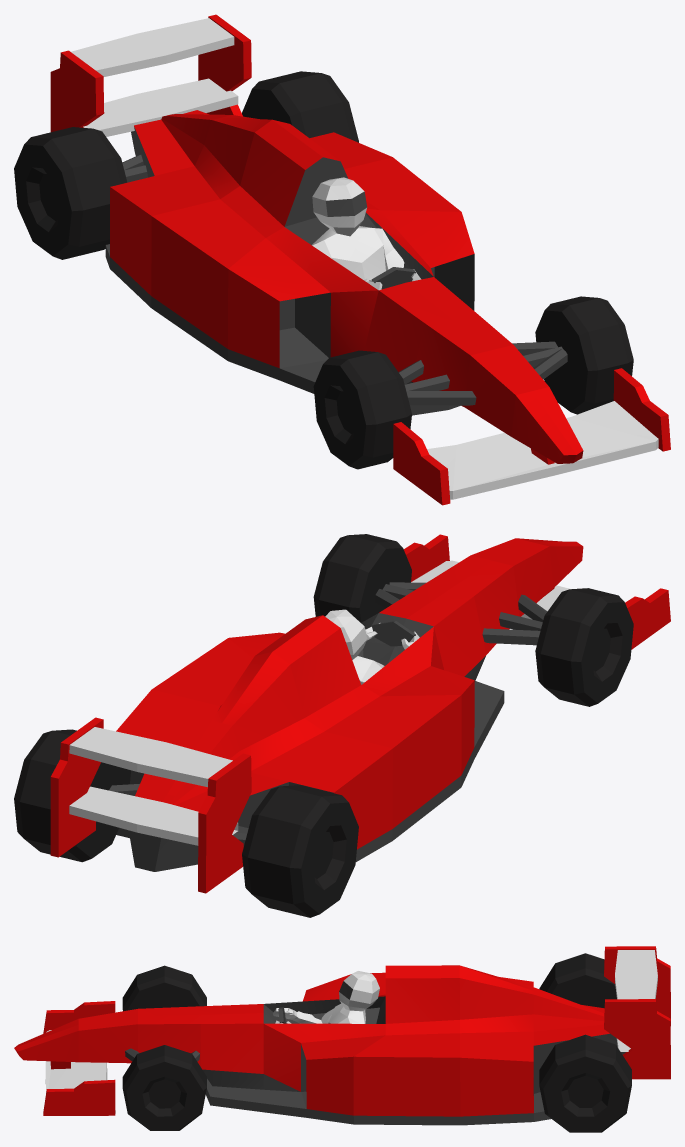
Rendered from formula.glb.
3 renders of one model, top to bottom at view 1: azimuth 30°, elevation 25°; view 2: azimuth 150°, elevation 25°; view 3: azimuth 270°, elevation 25°, orthographic. The views are drawn at different scales.
Visible parts, largest first — view 1: car-formula-base, car-formula-wheel_BR, car-formula-wheel_FR, car-formula-wheel_FL, car-formula-wheel_BL; view 2: car-formula-base, car-formula-wheel_BR, car-formula-wheel_FR, car-formula-wheel_FL, car-formula-wheel_BL; view 3: car-formula-base, car-formula-wheel_BL, car-formula-wheel_FL, car-formula-wheel_BR, car-formula-wheel_FR.
Boxes of the visible parts, left/top/right/bottom form: car-formula-base: left=50, top=14, right=670, bottom=505; car-formula-wheel_BR: left=14, top=127, right=127, bottom=259; car-formula-wheel_FR: left=313, top=350, right=411, bottom=469; car-formula-wheel_FL: left=535, top=296, right=633, bottom=414; car-formula-wheel_BL: left=242, top=71, right=358, bottom=142; car-formula-base: left=50, top=534, right=670, bottom=893; car-formula-wheel_BR: left=242, top=785, right=358, bottom=917; car-formula-wheel_FR: left=535, top=588, right=633, bottom=706; car-formula-wheel_FL: left=313, top=534, right=411, bottom=622; car-formula-wheel_BL: left=14, top=729, right=130, bottom=862; car-formula-base: left=14, top=946, right=670, bottom=1125; car-formula-wheel_BL: left=539, top=1034, right=631, bottom=1132; car-formula-wheel_FL: left=122, top=1045, right=206, bottom=1130; car-formula-wheel_BR: left=539, top=953, right=616, bottom=1008; car-formula-wheel_FR: left=122, top=965, right=206, bottom=1011.
Bounding box in the file's own units: 1.8 × 0.9837 × 4.86.
